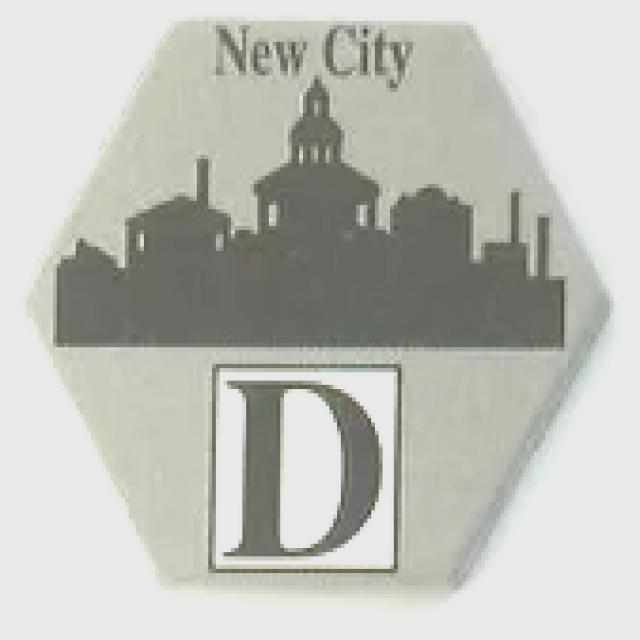19_0: (29, 21, 613, 592)
